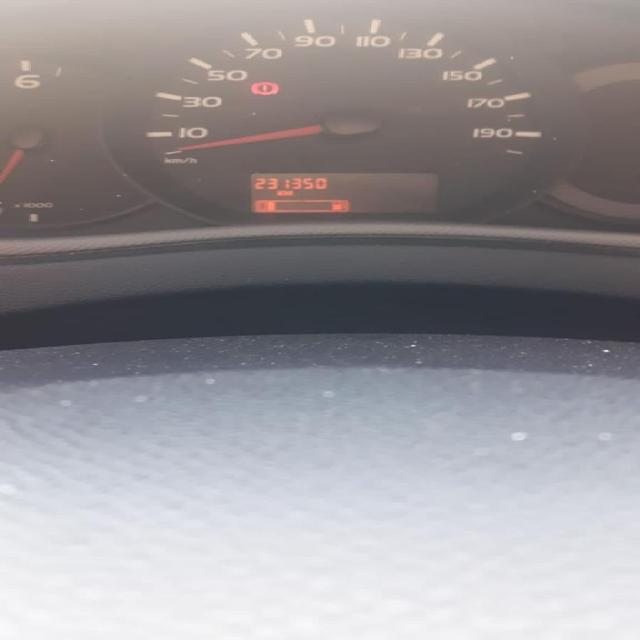odometer: (244, 170, 444, 216)
